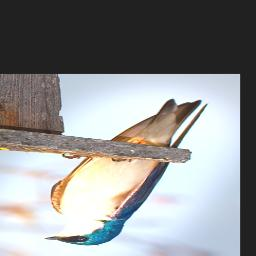Swallow: (44, 98, 210, 246)
